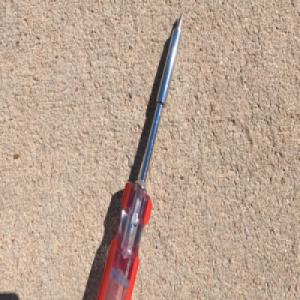Screwdriver: (94, 18, 183, 300)
